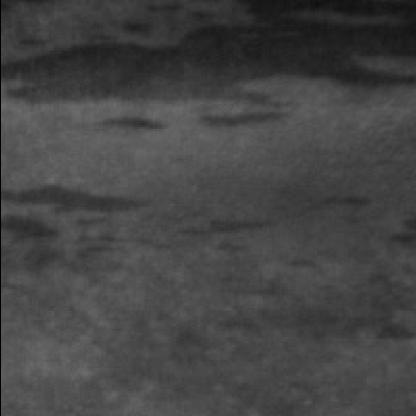inclusion: (0, 6, 410, 135), (214, 244, 410, 350), (0, 187, 152, 279), (171, 212, 272, 250), (294, 191, 372, 225)
